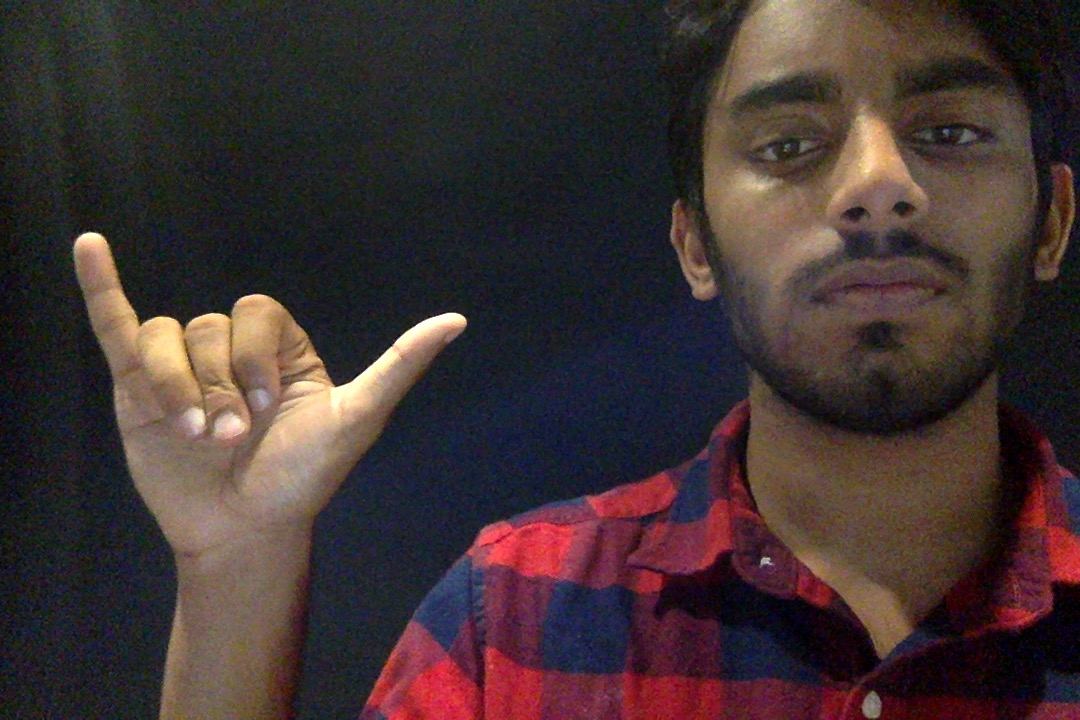y: (40, 211, 488, 573)
